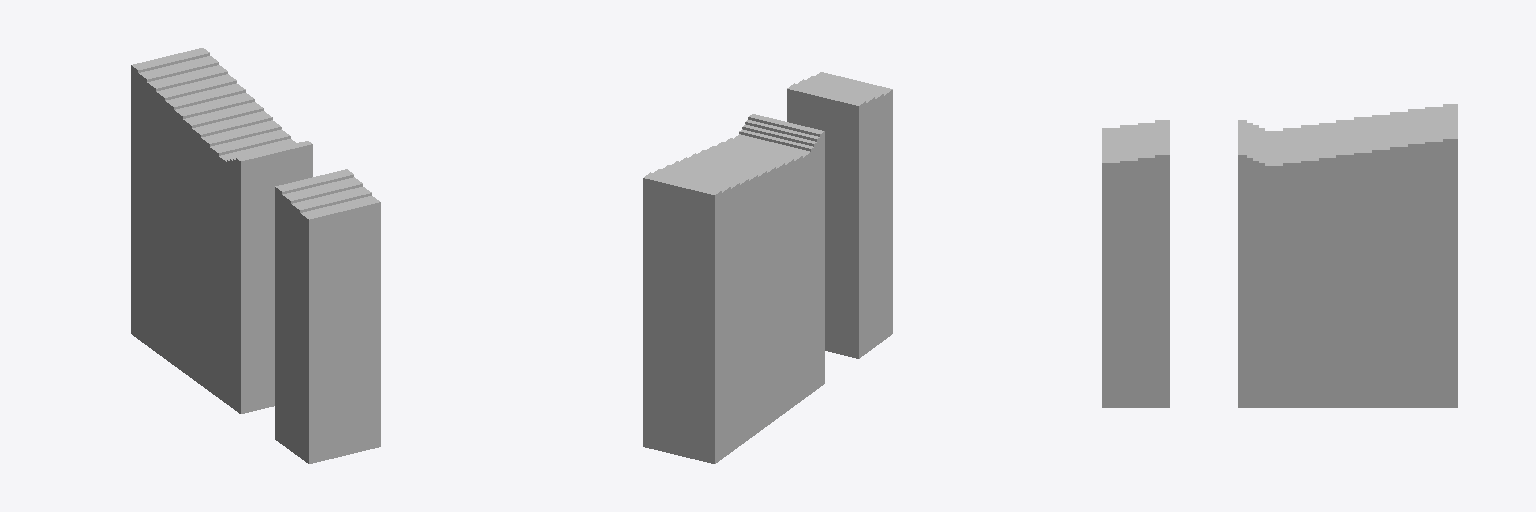
Rendered from Road4.obj.
The picture shows the model from 3 angles: view 1: azimuth 30°, elevation 25°; view 2: azimuth 150°, elevation 25°; view 3: azimuth 270°, elevation 25°; orthographic projection.
Parts seen in each view (by area): view 1: object 1; view 2: object 1; view 3: object 1.
Part boxes in pixels (bbox=[...]): object 1: bbox=[131, 48, 380, 463]; object 1: bbox=[643, 72, 892, 463]; object 1: bbox=[1102, 104, 1457, 407].
Bounding box in the file's own units: 2.8 × 10 × 12.